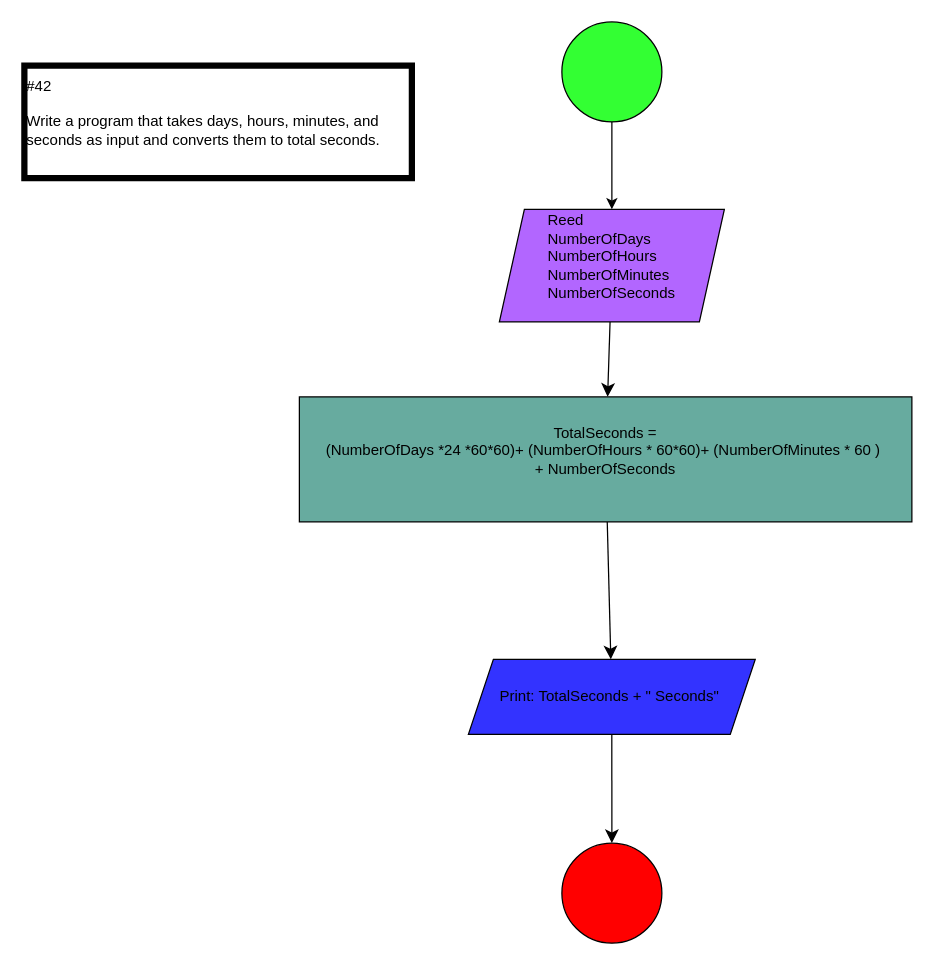
The diagram is 934 pixels wide and 965 high, and some of its shapes have lost their labels. Each missing label, with the centre of its shape:
"End" goes at (611,892).
"Start" goes at (611,71).
